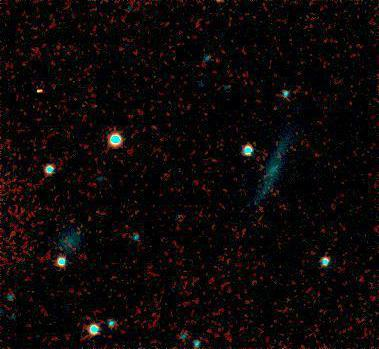star: (74, 136, 104, 166)
